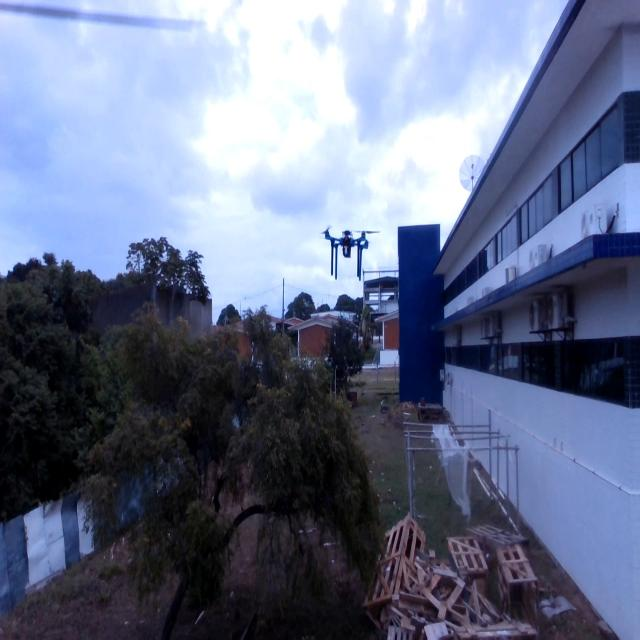-uav-: (315, 208, 386, 296)
